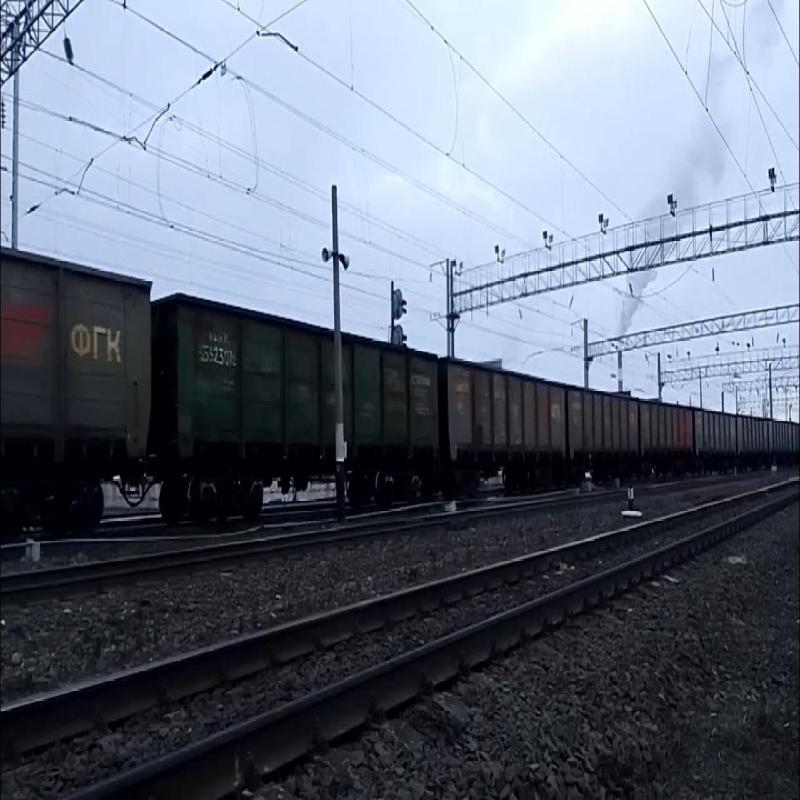train: (13, 314, 450, 525), (425, 358, 575, 488), (561, 375, 650, 481)
